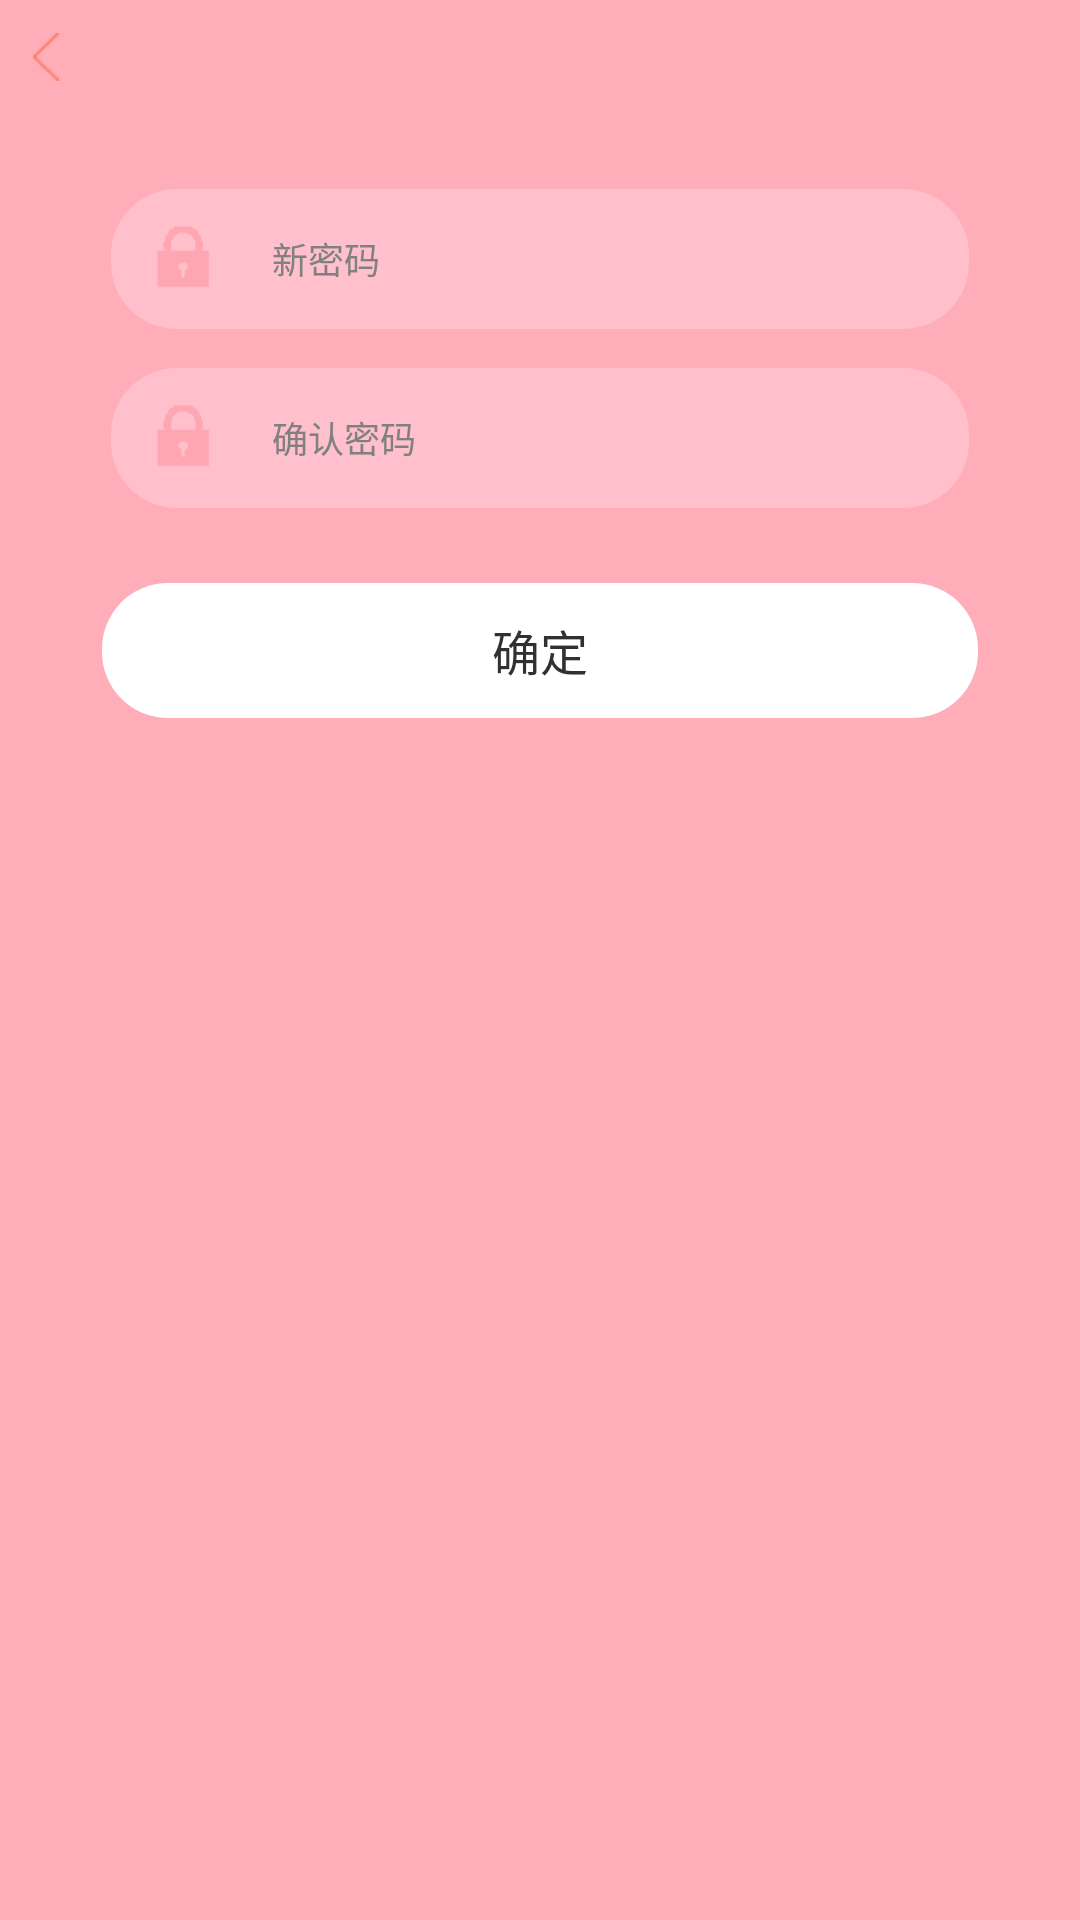

Icon click points for this 1080×1920 phone screenshot, format [x,y]:
back before: [46,57]
